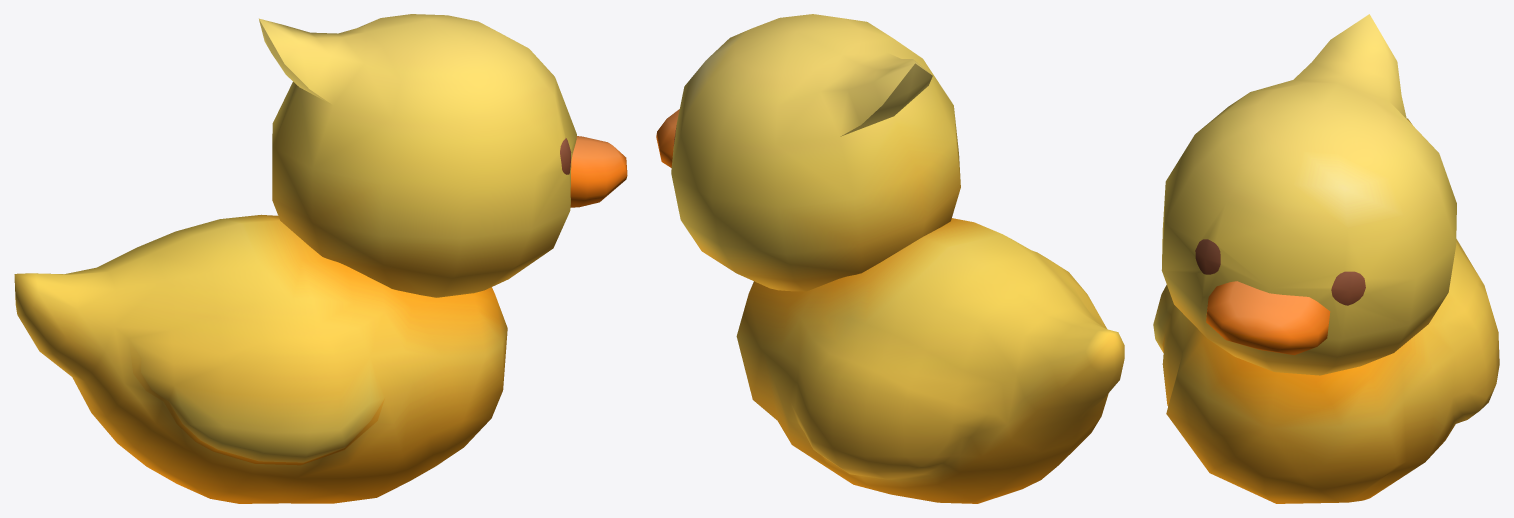
Rendered from Doll_OB_Duck_001.fbx.
3 renders of one model, left to right at view 1: azimuth 30°, elevation 25°; view 2: azimuth 150°, elevation 25°; view 3: azimuth 270°, elevation 25°, orthographic. The views are drawn at different scales.
Visible parts, largest first — view 1: Doll_OB_Duck_001; view 2: Doll_OB_Duck_001; view 3: Doll_OB_Duck_001.
Part boxes in pixels (left/top/right/bottom): Doll_OB_Duck_001: left=14, top=14, right=627, bottom=503; Doll_OB_Duck_001: left=656, top=14, right=1124, bottom=503; Doll_OB_Duck_001: left=1153, top=14, right=1499, bottom=503.
Size of the model in its own units: 24.98 by 20.52 by 14.07.
1 material, 1 textured.
